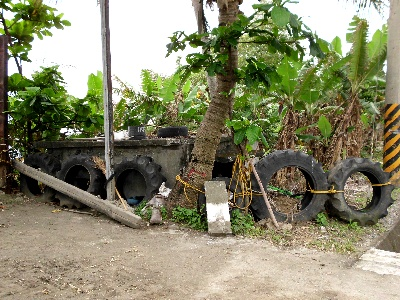tire: (248, 150, 328, 225), (330, 153, 394, 232), (108, 154, 164, 213), (55, 156, 102, 211), (21, 152, 60, 203), (156, 124, 191, 138)
